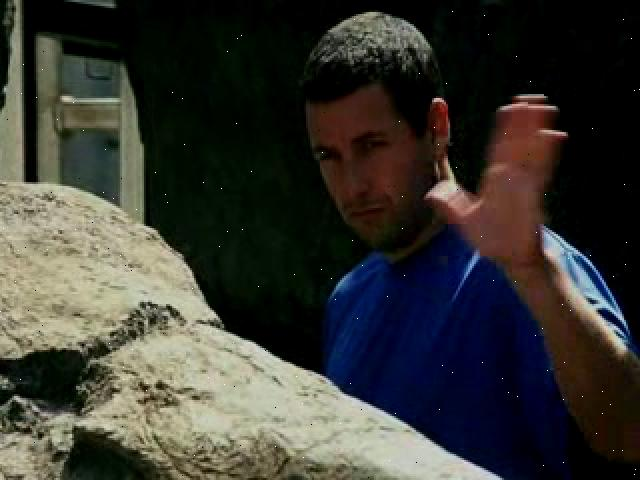L: (300, 11, 640, 475)
